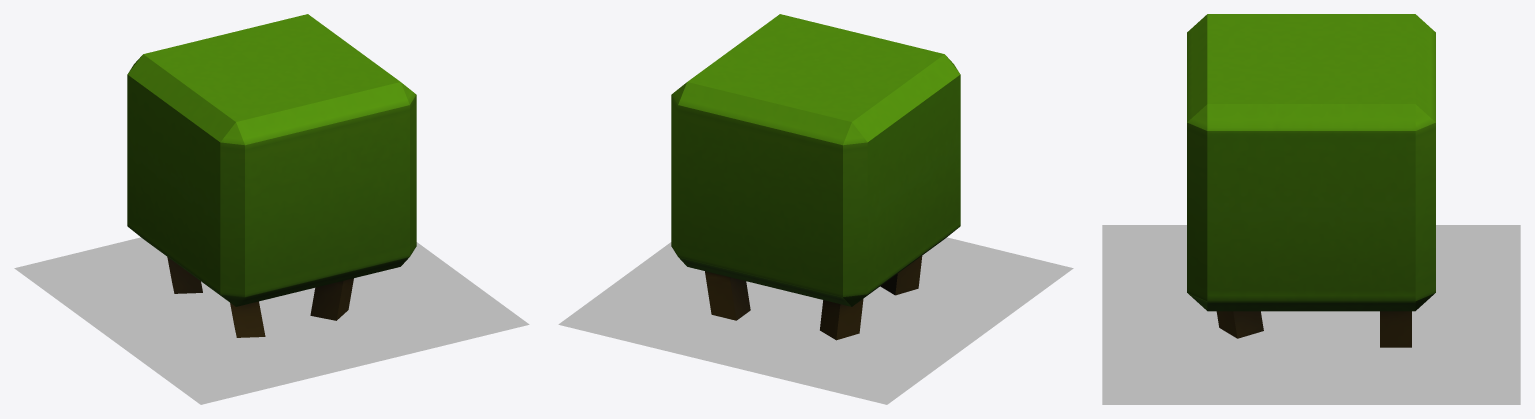
Rendered from 1x1_bush.FBX.
3 renders of one model, left to right at view 1: azimuth 30°, elevation 25°; view 2: azimuth 150°, elevation 25°; view 3: azimuth 270°, elevation 25°, orthographic. The views are drawn at different scales.
Parts seen in each view (by area): view 1: 1x1_bush, 1x1_bush_soft_shadow; view 2: 1x1_bush, 1x1_bush_soft_shadow; view 3: 1x1_bush, 1x1_bush_soft_shadow.
Boxes of the visible parts, box(x1,y1,x2,y2) form: 1x1_bush: box(127, 14, 416, 337); 1x1_bush_soft_shadow: box(14, 237, 529, 404); 1x1_bush: box(671, 14, 960, 340); 1x1_bush_soft_shadow: box(558, 237, 1073, 404); 1x1_bush: box(1187, 14, 1435, 347); 1x1_bush_soft_shadow: box(1102, 225, 1520, 404).
Bounding box in the file's own units: 1412 × 1071 × 1388.
